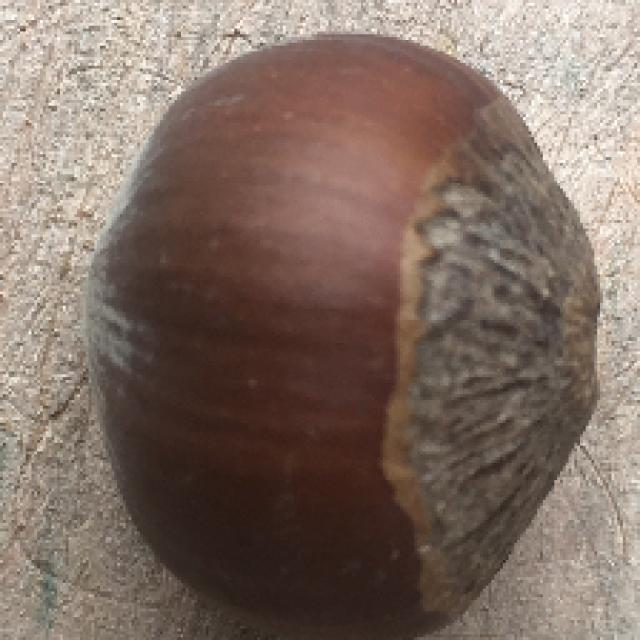DamagedHazelnut: (79, 33, 603, 637)
